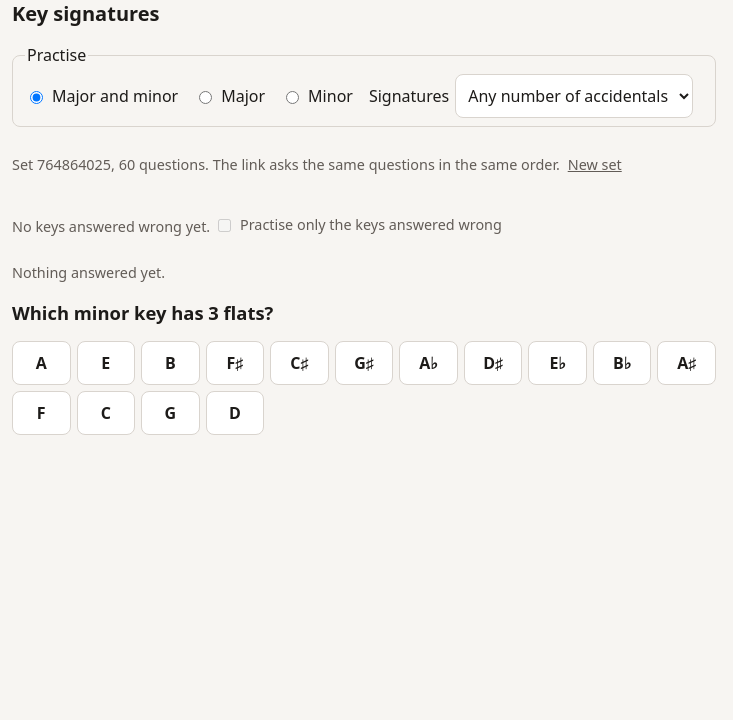
KeyQuiz: which key? › does not take another tonic
Click the button "A" at (41, 363), box x1=12 y1=341 x2=70 y2=385
(page scrolled)
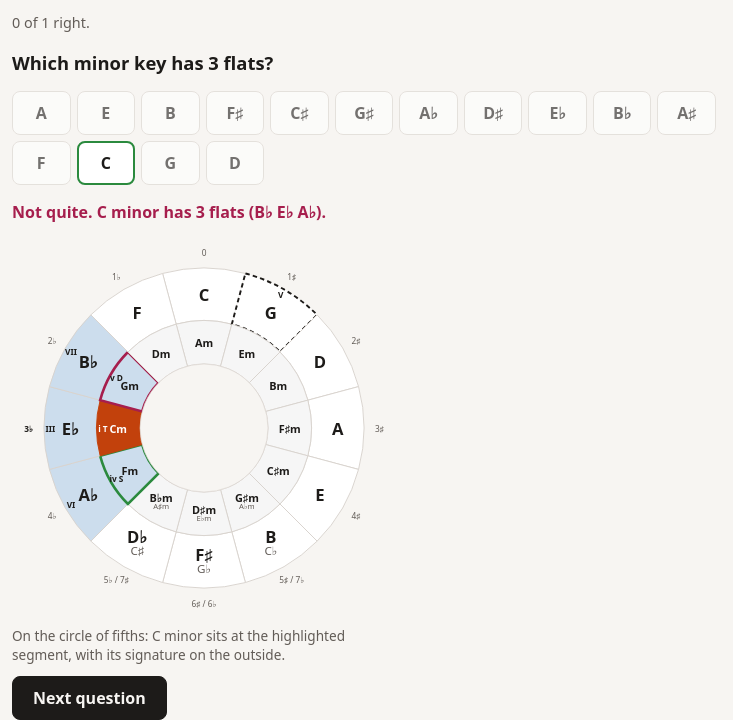
Result: the text "0 of 1 right." is shown at x1=12 y1=13 x2=90 y2=32
Result: the message shows "Not quite." at x1=12 y1=201 x2=92 y2=223
